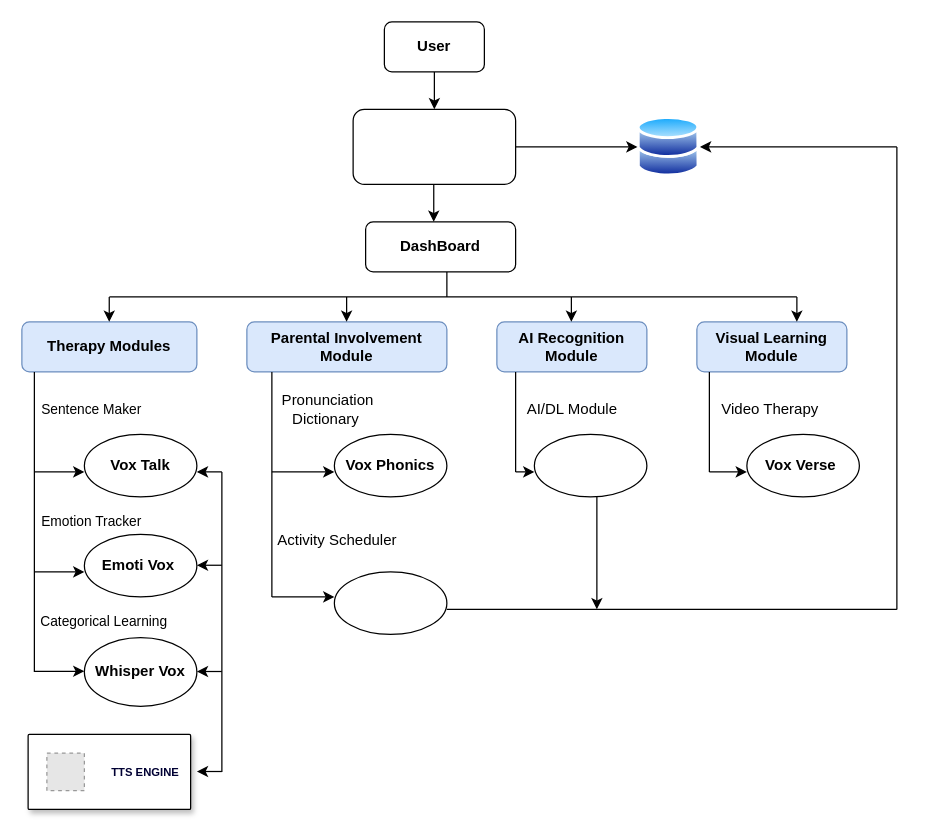
Image size: 929x840. Some labels were removed from this diagram. Grey dashed boxes stand in for pictures. The shapes that lost their labels are listed below. From the top down, each one's centre as x and y in pixels, then its label:
At pixel 434 146: "Registration Module Login/Signup".
At pixel 590 465: "Speech Vox".
At pixel 390 602: "Guardian Calendar".
